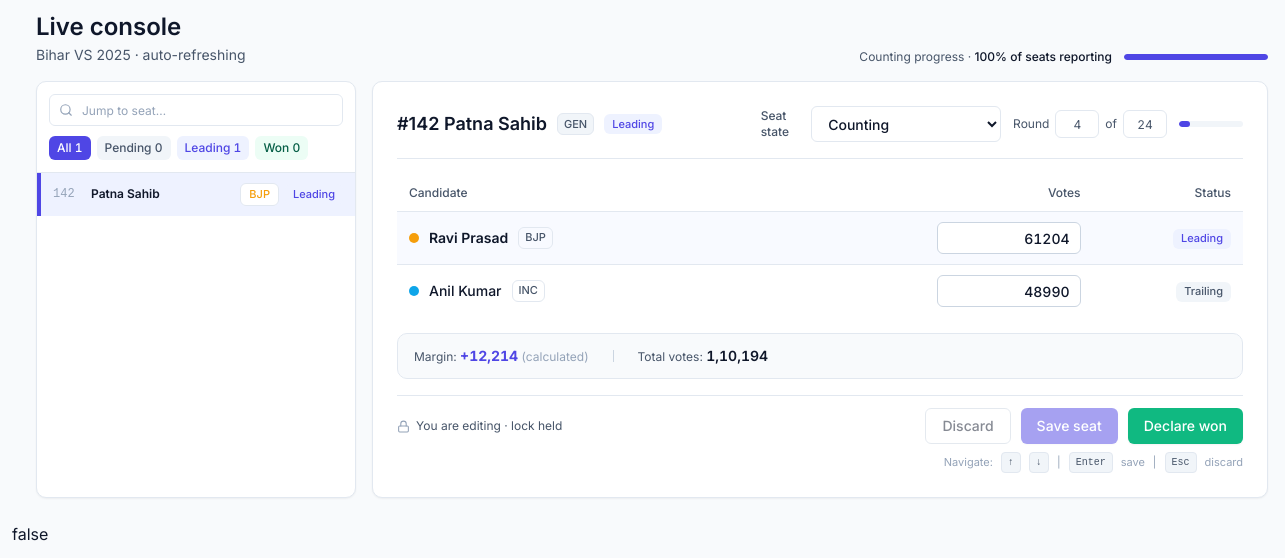
Test: LiveConsole page › Esc inside the editor discards; Esc outside does not
Replace the text in the field named "Votes for Anil Kumar" with "50,000" at {"x": 1008, "y": 291}, box [936,275,1080,307]
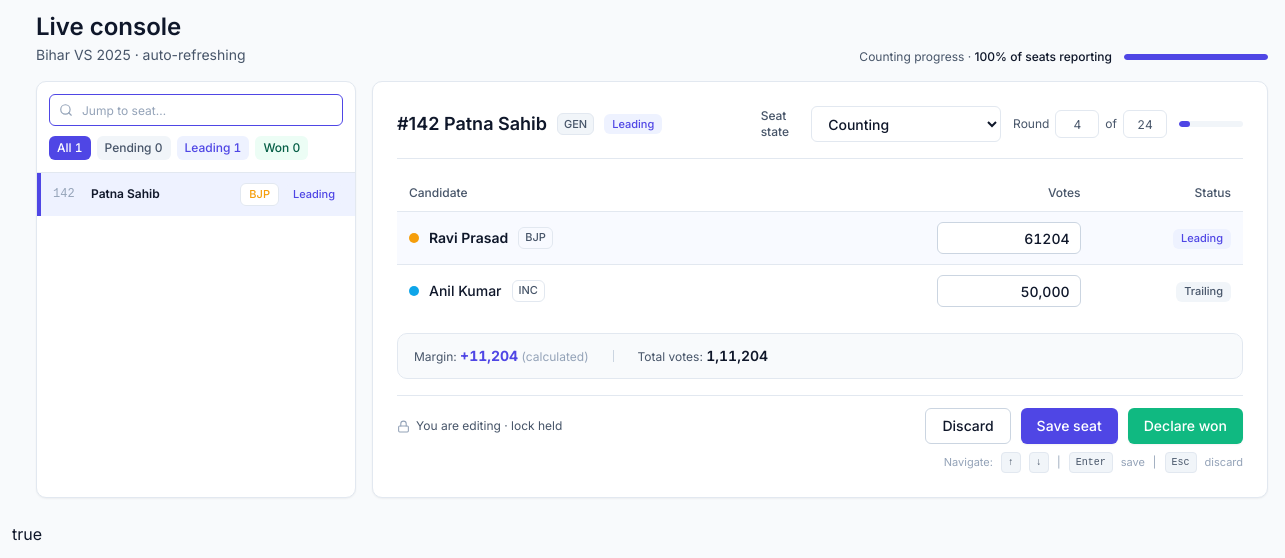
Press Escape
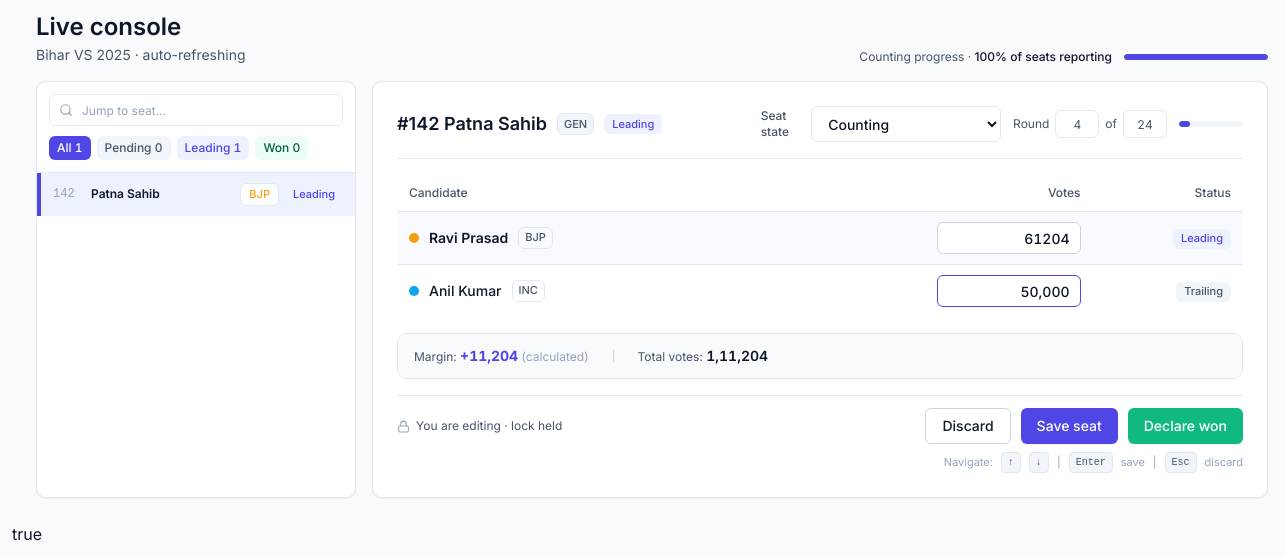
Press Escape in the field named "Votes for Anil Kumar", box [936,275,1080,307]
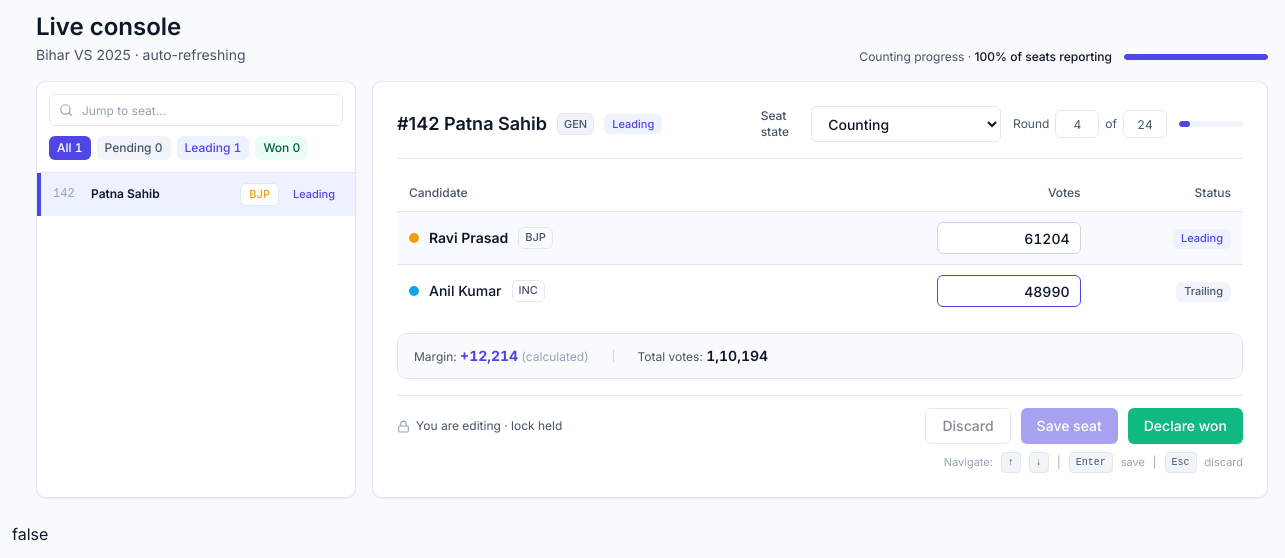
Check: the field named "Votes for Anil Kumar" holds "48990", box [936,275,1080,307]
